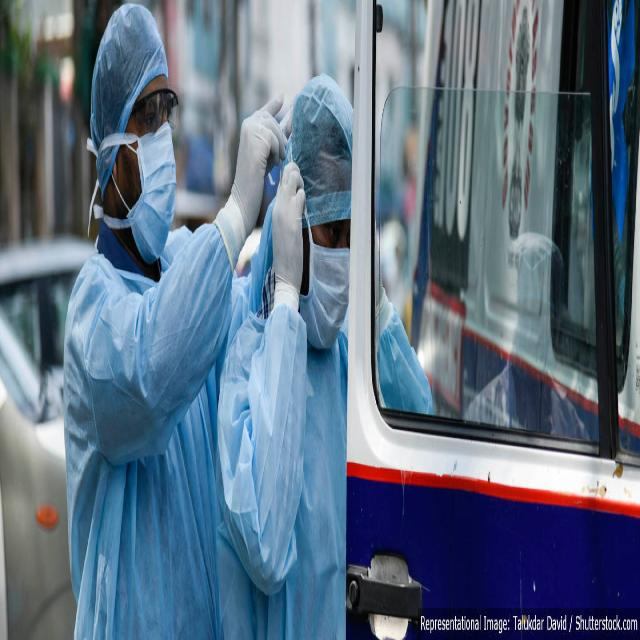Coverall: (62, 0, 225, 637), (217, 69, 346, 637)
Gloves: (218, 90, 290, 272), (272, 156, 306, 308)
Goggles: (134, 86, 182, 132)
Mask: (128, 127, 176, 262), (300, 235, 349, 351)
